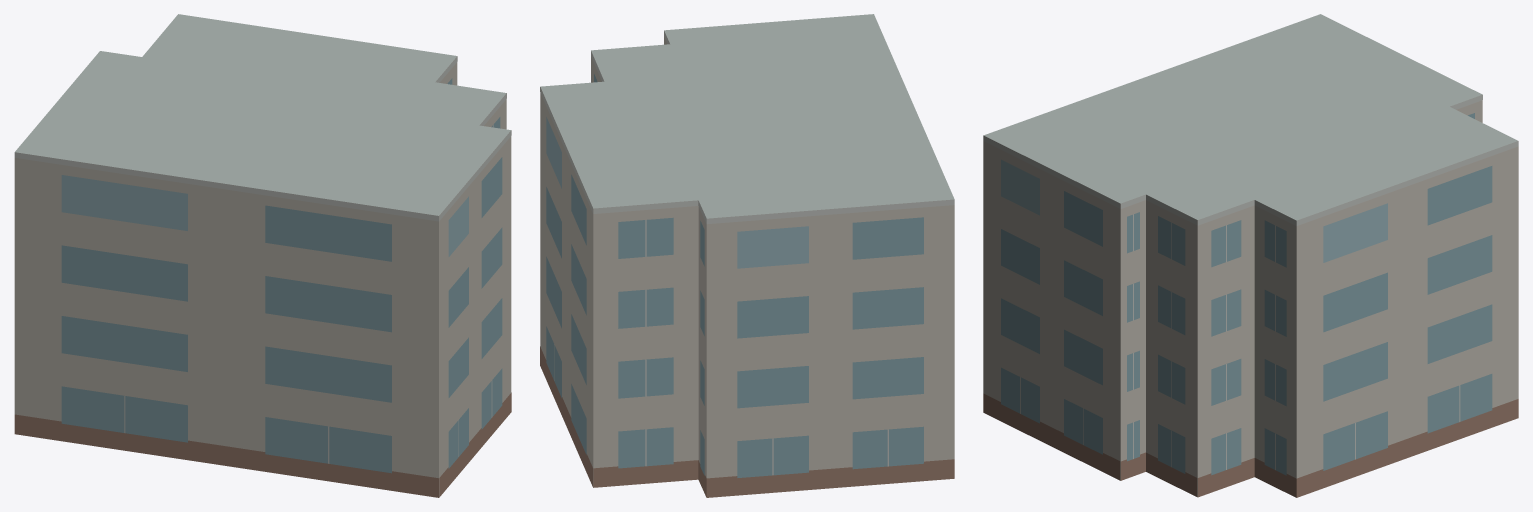
The model's file is residential-f63ca022-bba9-420c-babd-70f63eeb3f49.glb.
3 views of the same model, side by side, from view 1: azimuth 30°, elevation 25°; view 2: azimuth 150°, elevation 25°; view 3: azimuth 270°, elevation 25° (orthographic).
Visible parts, largest first — view 1: residential-f63ca022-bba9-420c-babd-70f63eeb3f49.tmp; view 2: residential-f63ca022-bba9-420c-babd-70f63eeb3f49.tmp; view 3: residential-f63ca022-bba9-420c-babd-70f63eeb3f49.tmp.
Part boxes in pixels (x1,y1,x2,y2): residential-f63ca022-bba9-420c-babd-70f63eeb3f49.tmp: (14,14,511,497); residential-f63ca022-bba9-420c-babd-70f63eeb3f49.tmp: (540,14,954,497); residential-f63ca022-bba9-420c-babd-70f63eeb3f49.tmp: (983,14,1518,497).
Bounding box in the file's own units: 19.51 × 12.2 × 21.35.
